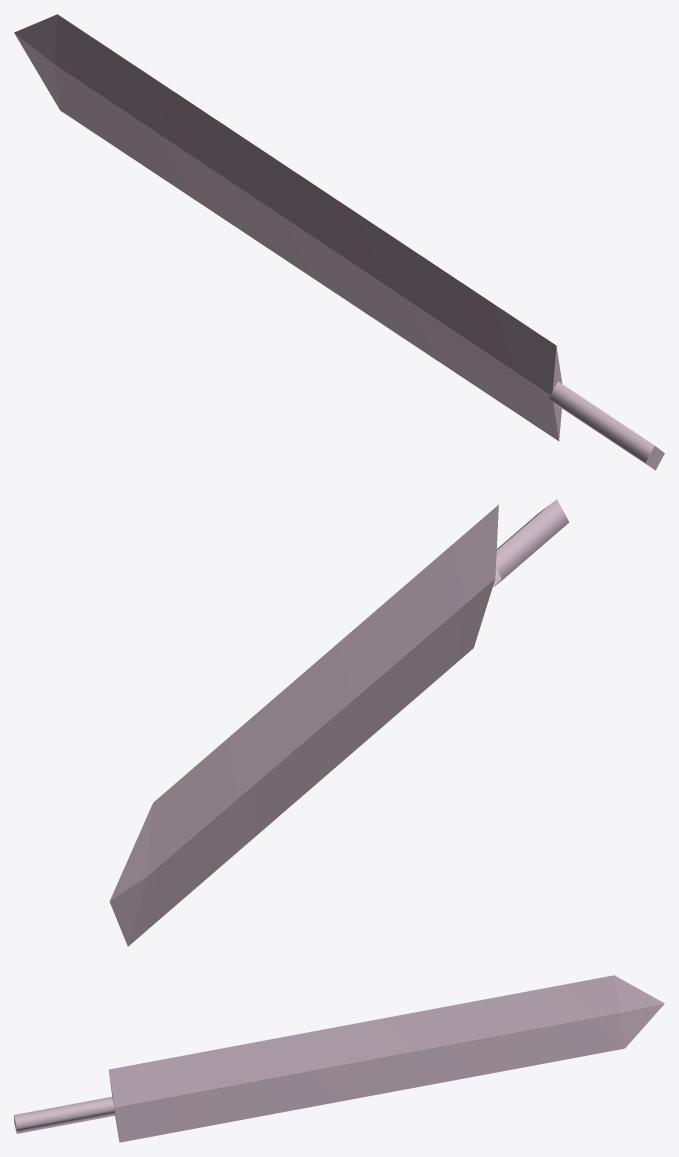
The picture shows the model from 3 angles, top to bottom: view 1: azimuth 30°, elevation 25°; view 2: azimuth 150°, elevation 25°; view 3: azimuth 270°, elevation 25°; orthographic projection. The views are drawn at different scales.
Parts seen in each view (by area): view 1: Object62; view 2: Object62; view 3: Object62.
Boxes of the visible parts, x1=… form: Object62: x1=14, y1=14, x2=664, y2=470; Object62: x1=109, y1=499, x2=569, y2=946; Object62: x1=14, y1=975, x2=664, y2=1142.
Size of the model in its own units: 3718 by 4043 by 19086.
